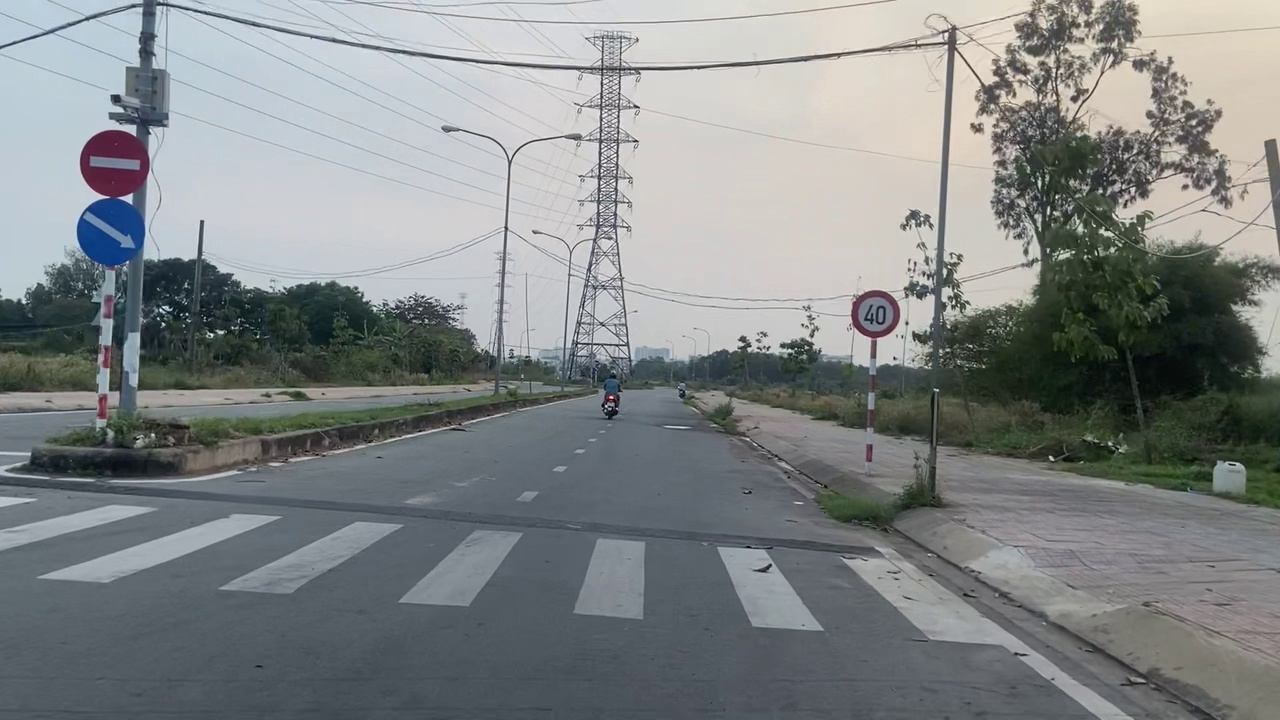gioi_han_40km: (850, 288, 902, 342)
